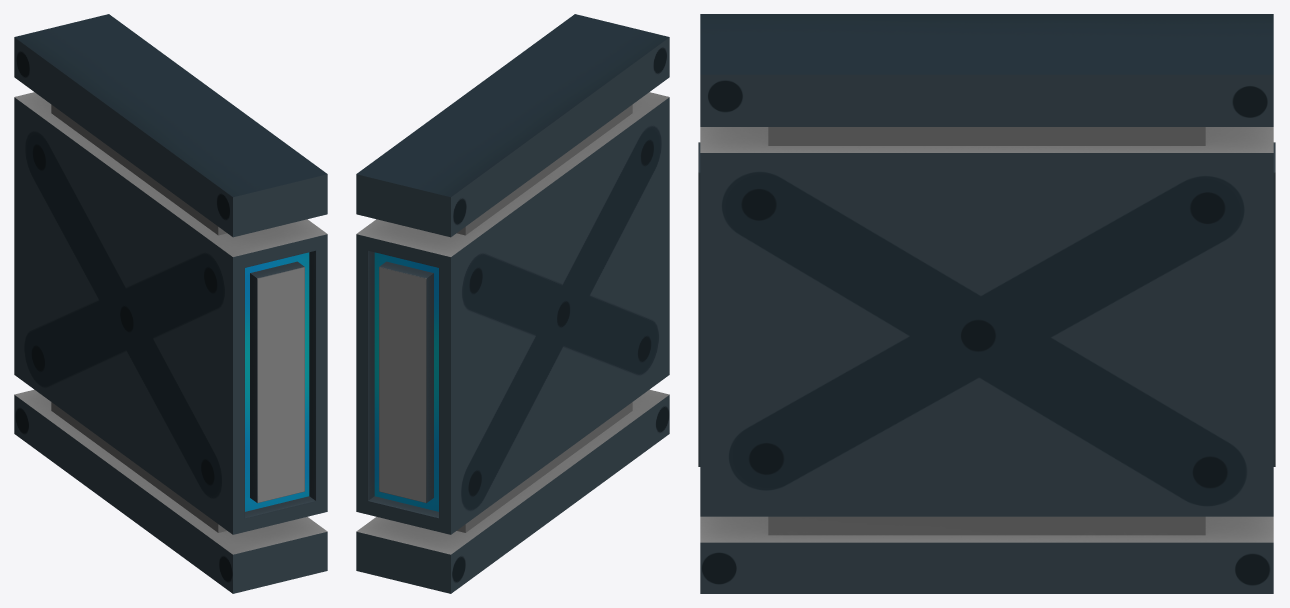
The model's file is Door.fbx.
3 views of the same model, side by side, from view 1: azimuth 30°, elevation 25°; view 2: azimuth 150°, elevation 25°; view 3: azimuth 270°, elevation 25° (orthographic). The views are drawn at different scales.
Parts seen in each view (by area): view 1: Door; view 2: Door; view 3: Door.
Part boxes in pixels (<box>): Door: <box>14,14,327,593</box>; Door: <box>356,14,669,593</box>; Door: <box>698,14,1275,593</box>.
Size of the model in its own units: 50 by 200 by 201.
1 material, 1 textured.
